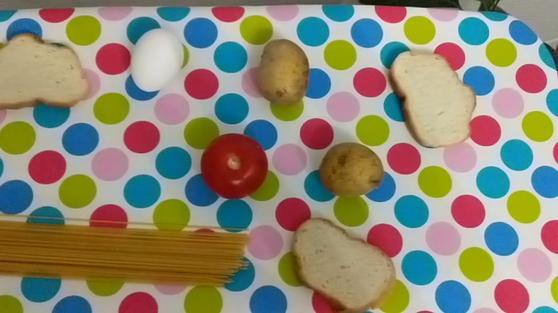egg: (125, 19, 193, 94)
potato: (248, 29, 312, 118), (316, 134, 393, 201)
spaghetti: (1, 210, 263, 291)
tomato: (199, 133, 274, 204)
white_bread: (288, 213, 421, 313), (384, 42, 492, 155), (1, 34, 100, 115)
